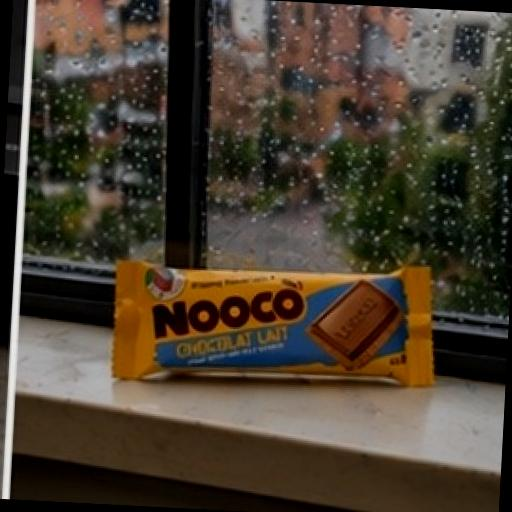nooco: (78, 202, 496, 464)
